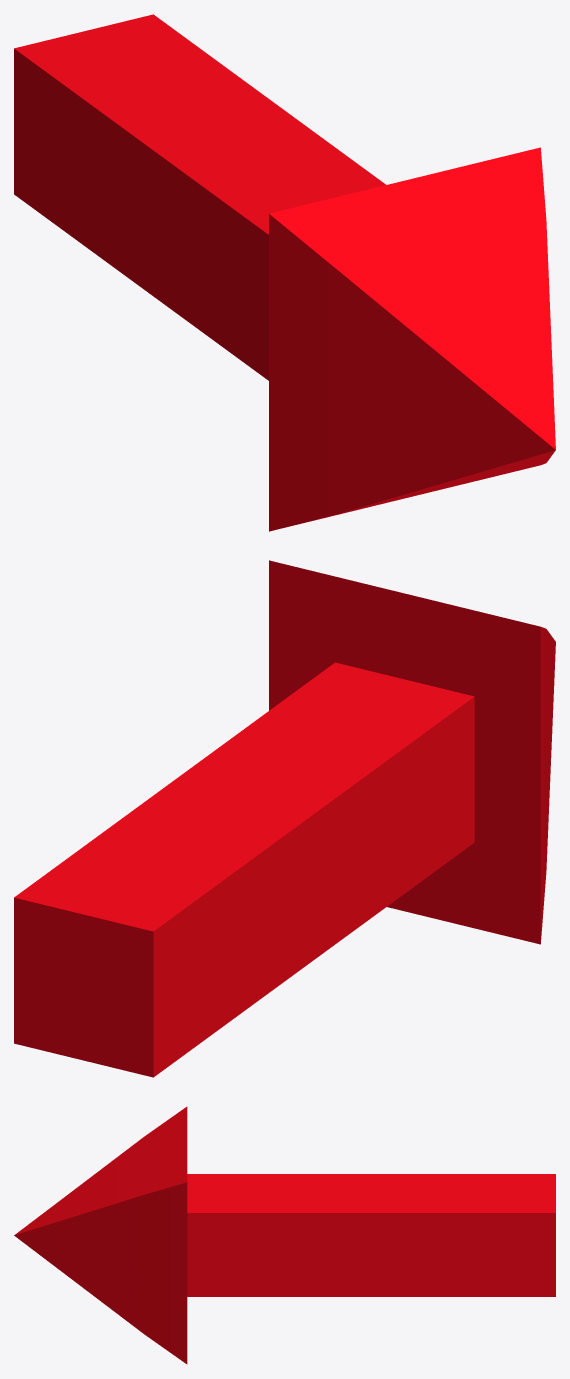
The model's file is arrow.fbx.
3 renders of one model, top to bottom at view 1: azimuth 30°, elevation 25°; view 2: azimuth 150°, elevation 25°; view 3: azimuth 270°, elevation 25°, orthographic. The views are drawn at different scales.
Parts seen in each view (by area): view 1: Arrow; view 2: Arrow; view 3: Arrow.
Part boxes in pixels (left/top/right/bottom): Arrow: left=14, top=14, right=555, bottom=531; Arrow: left=14, top=560, right=555, bottom=1077; Arrow: left=14, top=1106, right=555, bottom=1364.
Bounding box in the file's own units: 46.76 × 52.27 × 141.
